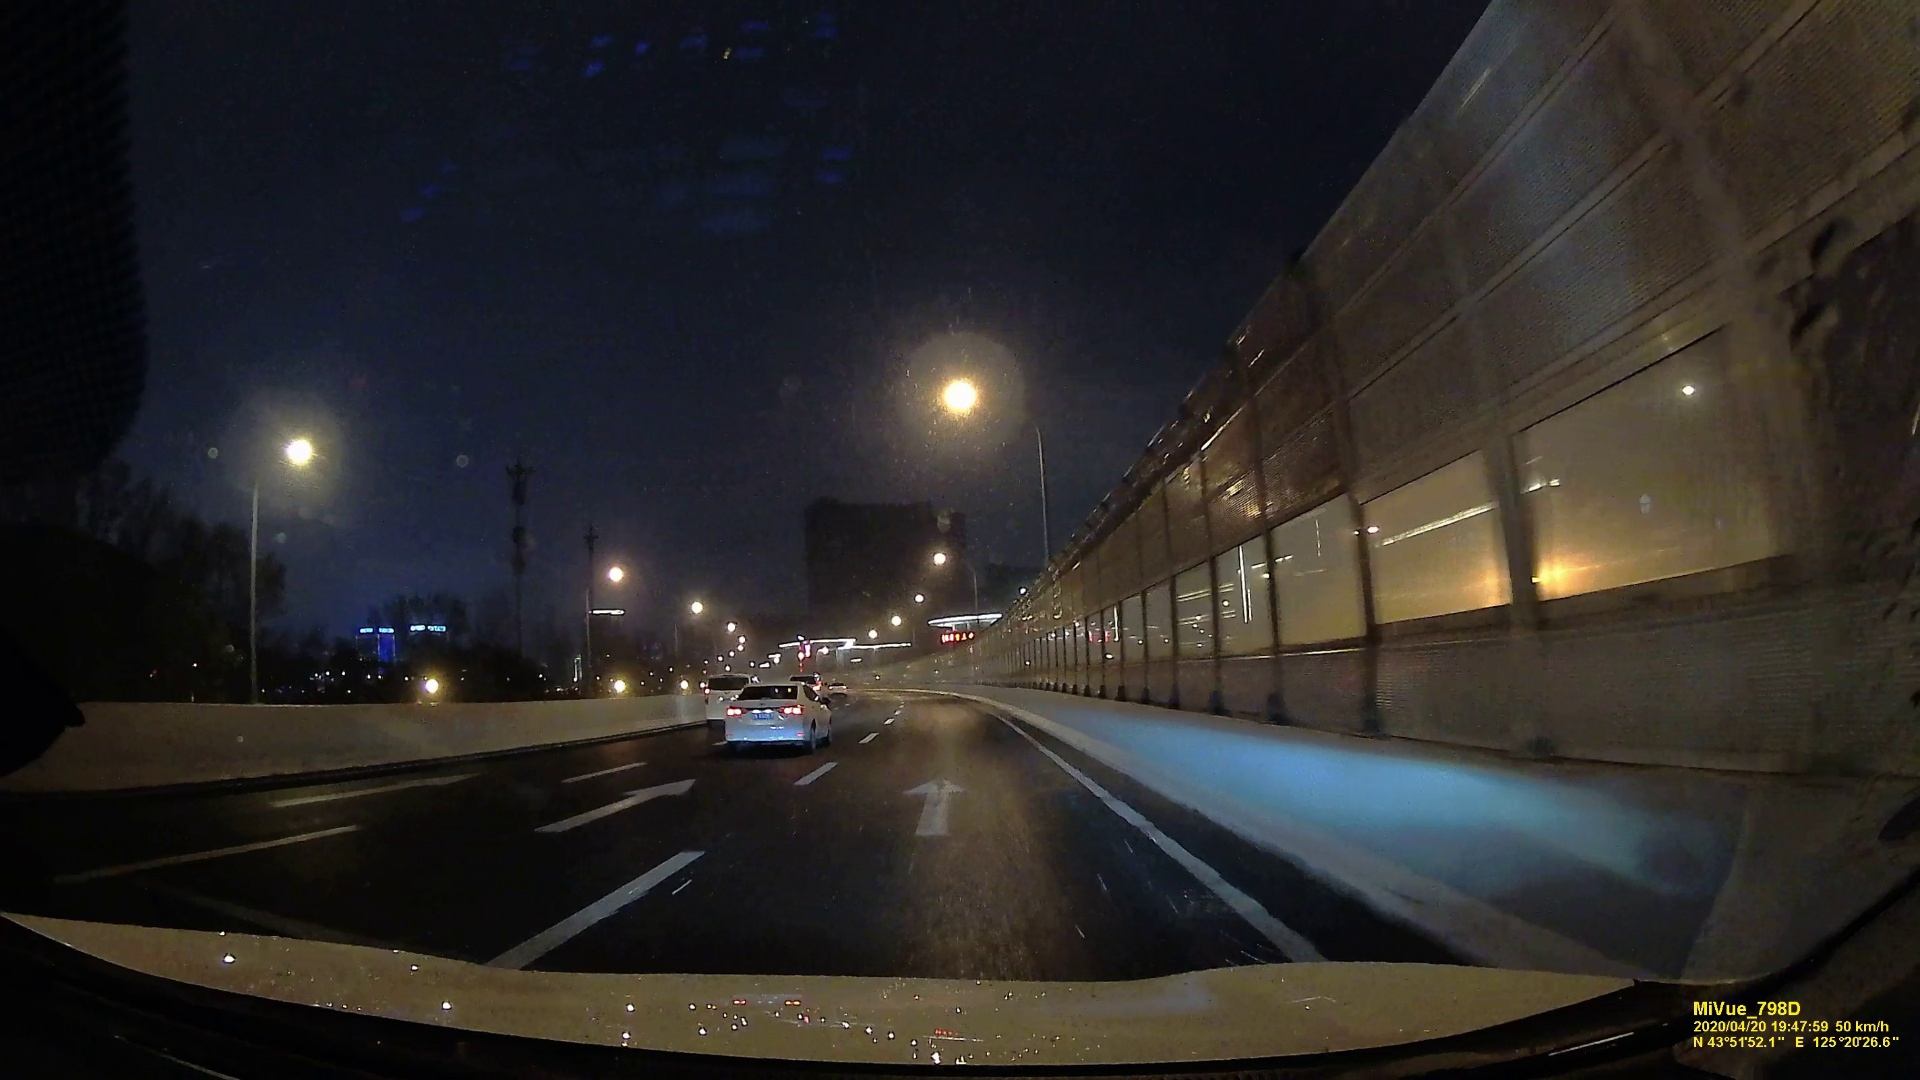minibus: (705, 675, 752, 723)
vehicle: (725, 680, 831, 748), (828, 680, 848, 698)
